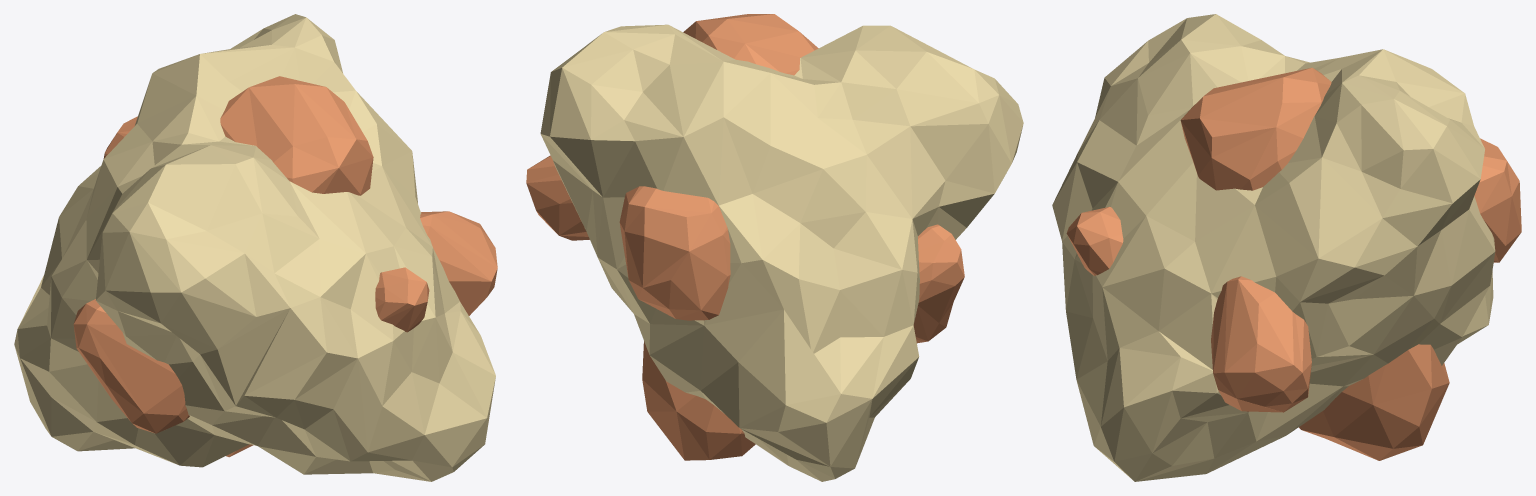
File: StoneOre (4).fbx
The picture shows the model from 3 angles, left to right: view 1: azimuth 30°, elevation 25°; view 2: azimuth 150°, elevation 25°; view 3: azimuth 270°, elevation 25°; orthographic projection. The views are drawn at different scales.
Parts seen in each view (by area): view 1: Asteroid291; view 2: Asteroid291; view 3: Asteroid291.
Part boxes in pixels (box(x1,y1,x2,y2)): Asteroid291: box(14, 14, 497, 481); Asteroid291: box(526, 14, 1023, 481); Asteroid291: box(1052, 14, 1521, 481).
Bounding box in the file's own units: 407 × 364 × 382.
